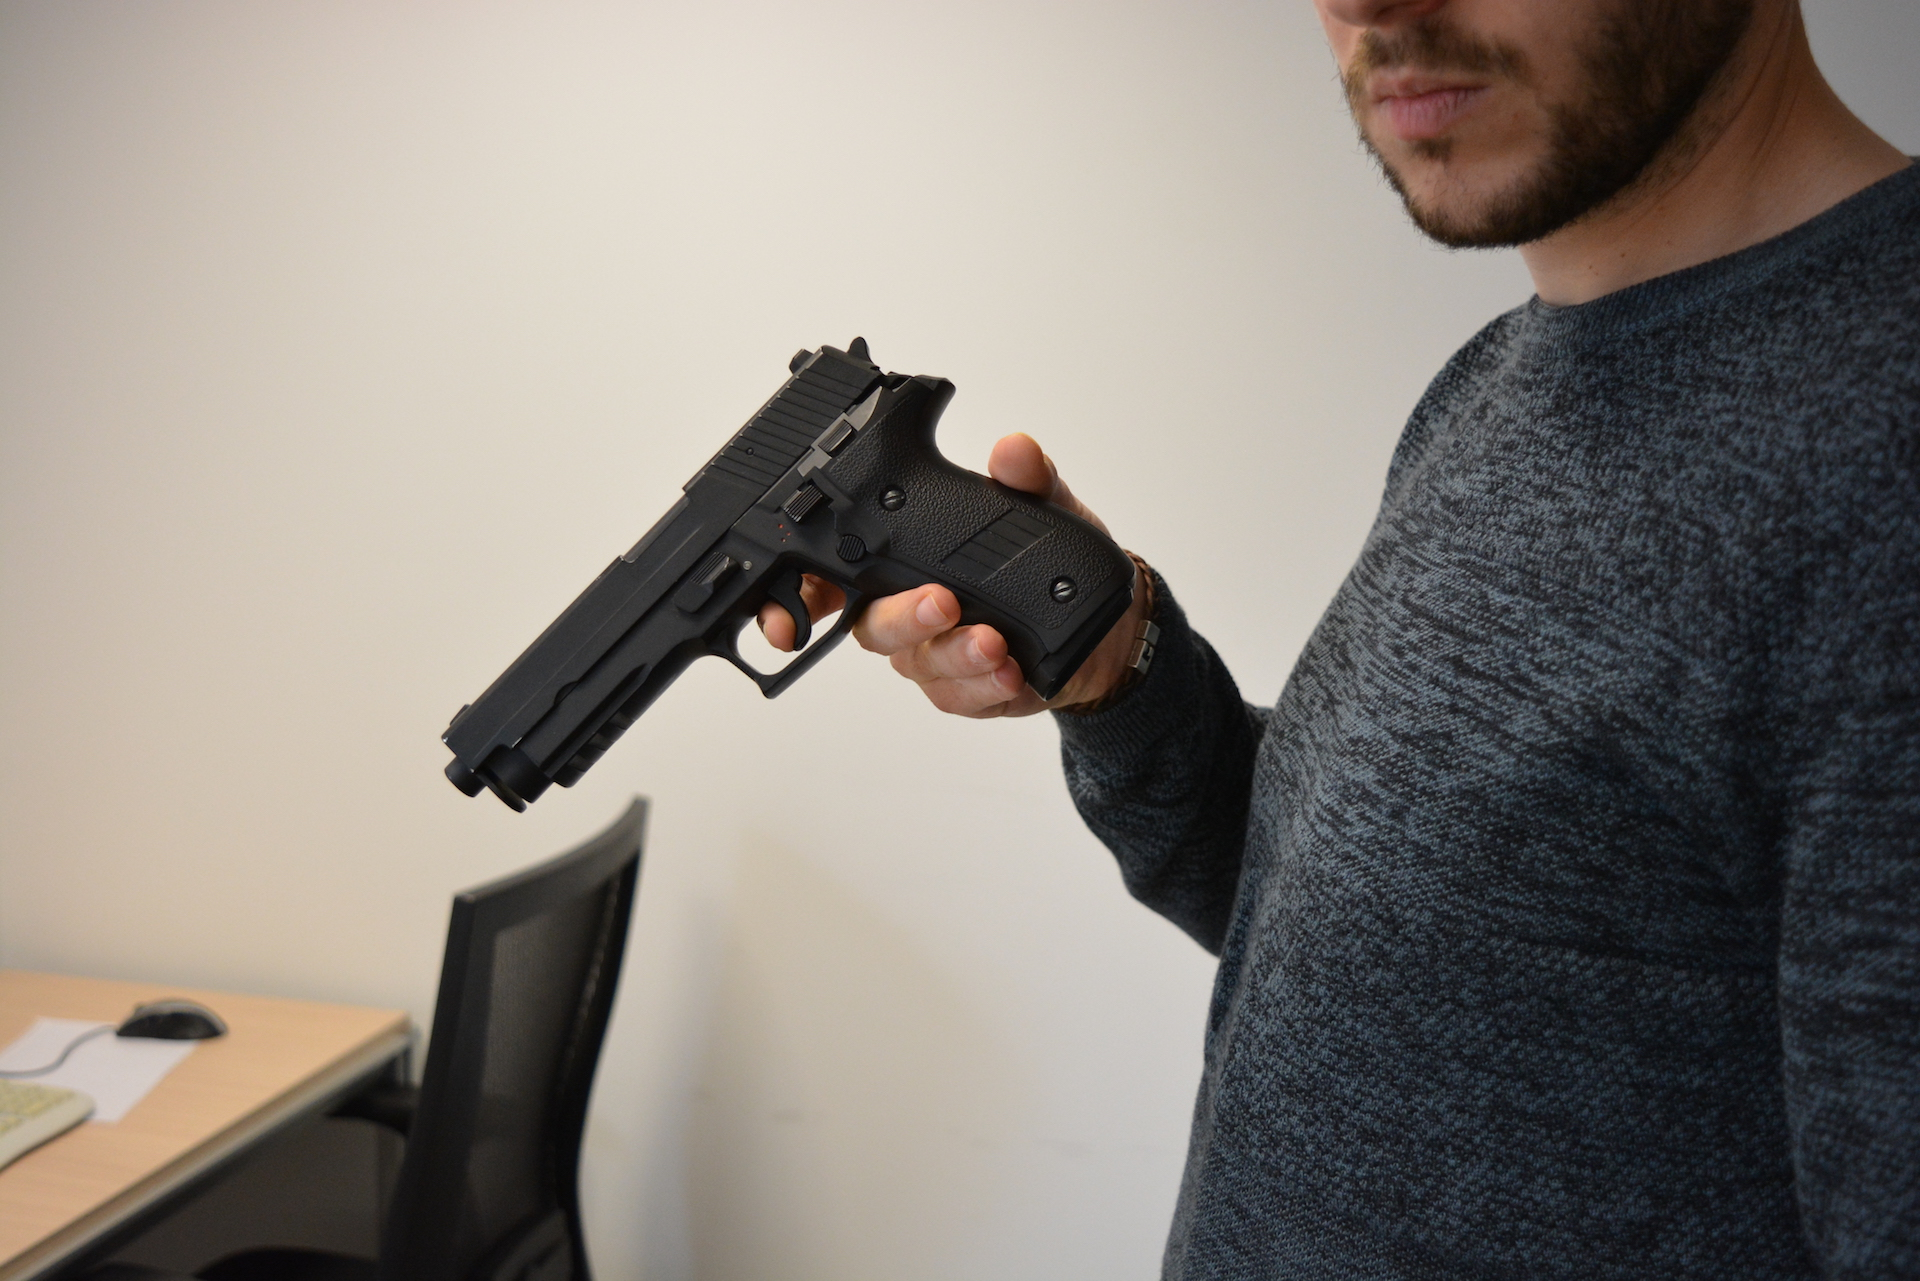pistol: (436, 332, 1141, 818)
